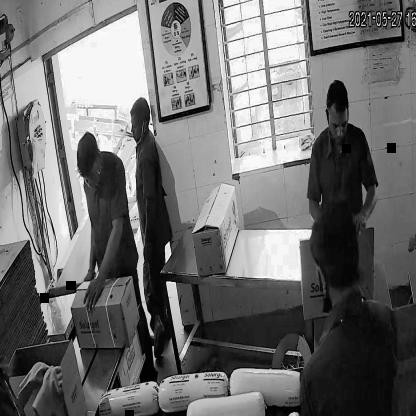no_goggles: (326, 113, 351, 136)
